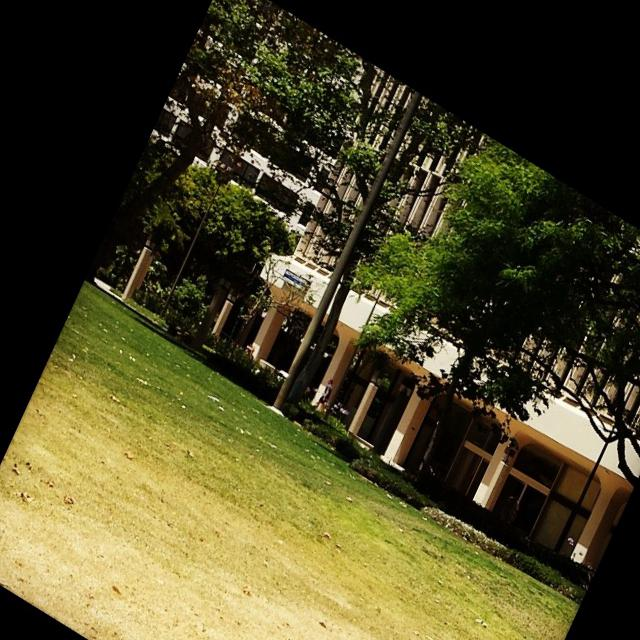patch: (57, 506, 201, 581), (203, 489, 312, 575), (48, 424, 172, 492), (351, 580, 426, 640), (248, 591, 332, 634), (342, 526, 401, 571), (142, 608, 223, 638), (59, 375, 116, 412), (1, 493, 28, 535)
